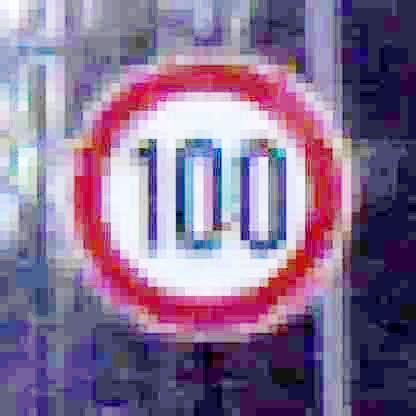Speed Limit -100-: (64, 52, 348, 334)
